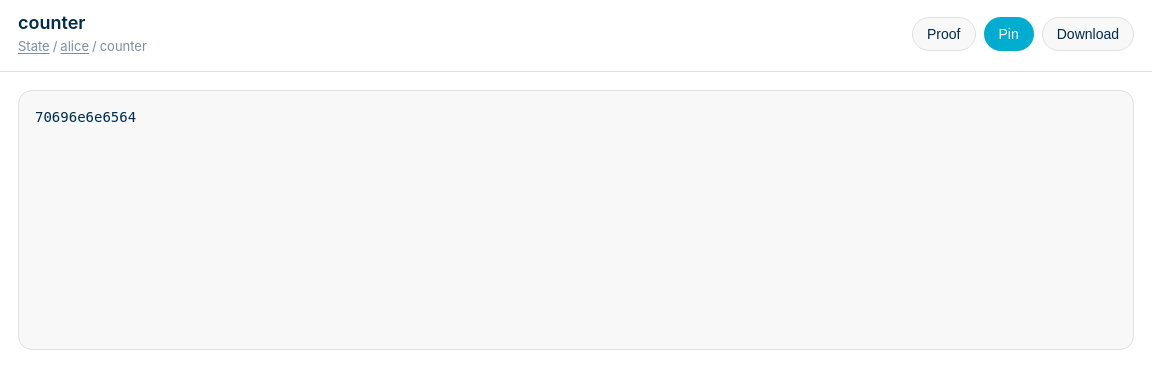
it: ExplorerContent › requires exact local and terminal-provider evidence before showing a new pin state
Click the button "Pin" at (1009, 34), box 984,17 -> 1034,51
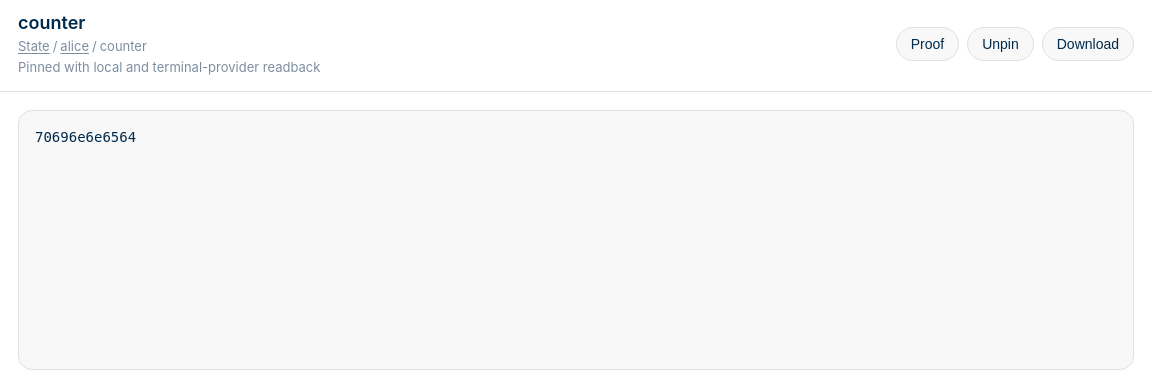
Check: the button "Unpin" is shown, box 967,27 -> 1034,61
Check: the text "Pinned with local and terminal-provider readback" is shown, box 18,59 -> 320,75
